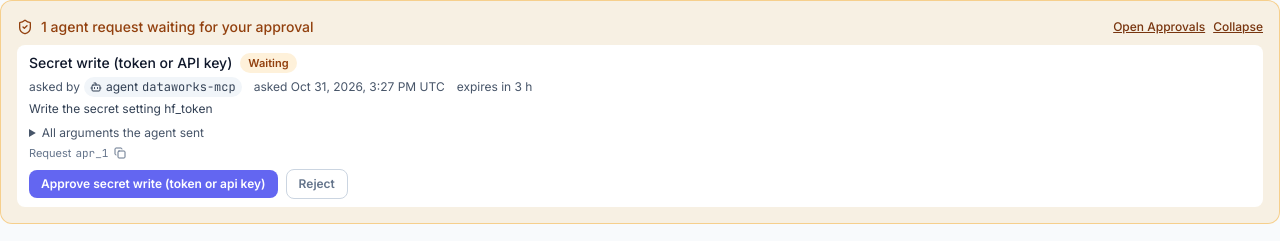
Test: ApprovalsBanner › floats: a sticky dock at the top of the viewport, height-capped with its own scroll, sticky when collapsed
The image size is (1280, 241).
Click the button with test id "approvals-banner-toggle" at x=1238, y=27, box [1213,19,1263,35]
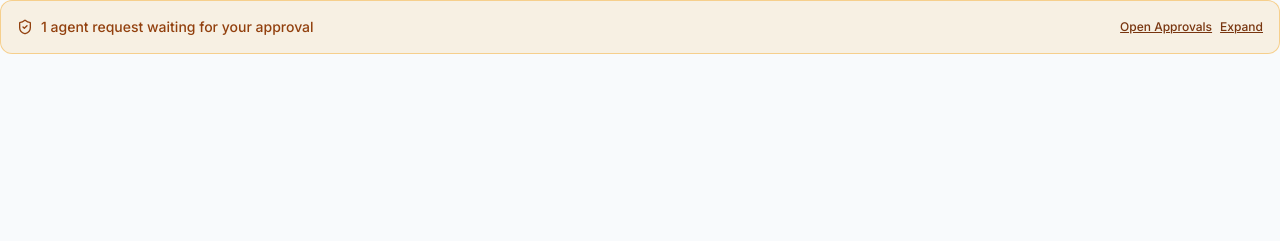
Now the button with test id "approvals-banner-toggle" reads "Expand", box [1220,19,1263,35]
